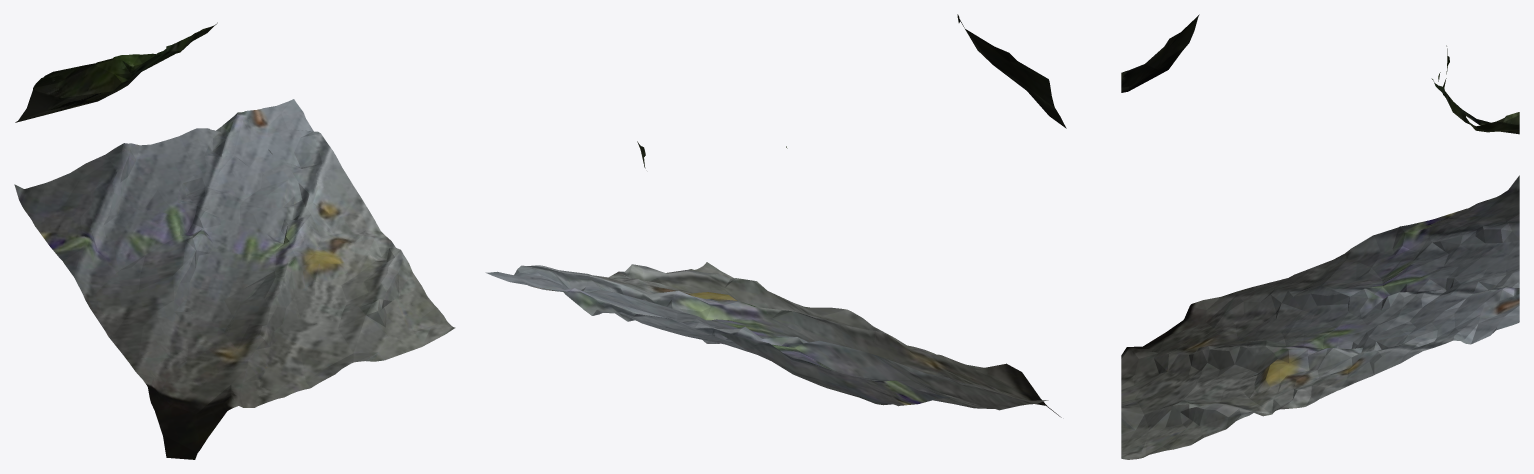
3 renders of one model, left to right at view 1: azimuth 30°, elevation 25°; view 2: azimuth 150°, elevation 25°; view 3: azimuth 270°, elevation 25°, orthographic. The views are drawn at different scales.
Bounding box in the file's own units: 0.8373 × 0.8373 × 0.8373.
Materials: 3 (3 with a texture image).
